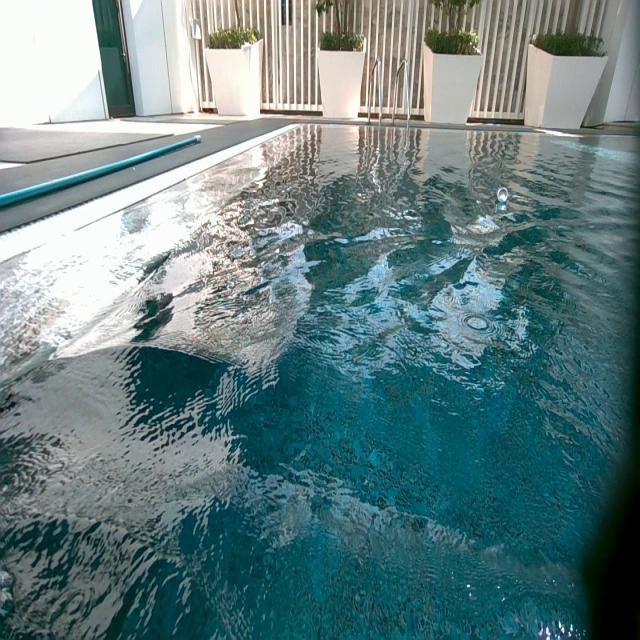Cans: (496, 186, 509, 202)
